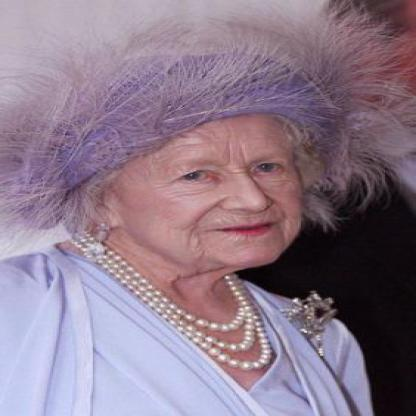face: (104, 71, 321, 275)
